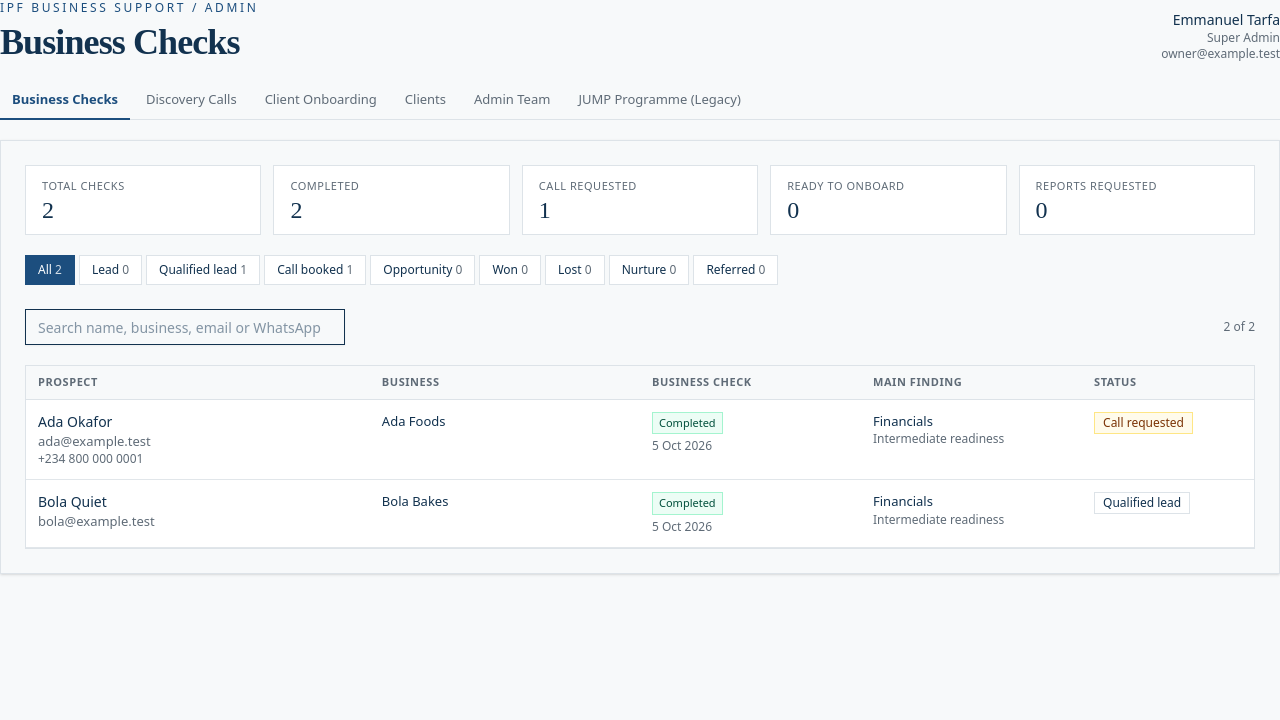
Test case: Business Check record drawer › opens from anywhere on the row, with the right prospect
Click the text "Bola Quiet" at (640, 513), box [26, 480, 1254, 547]
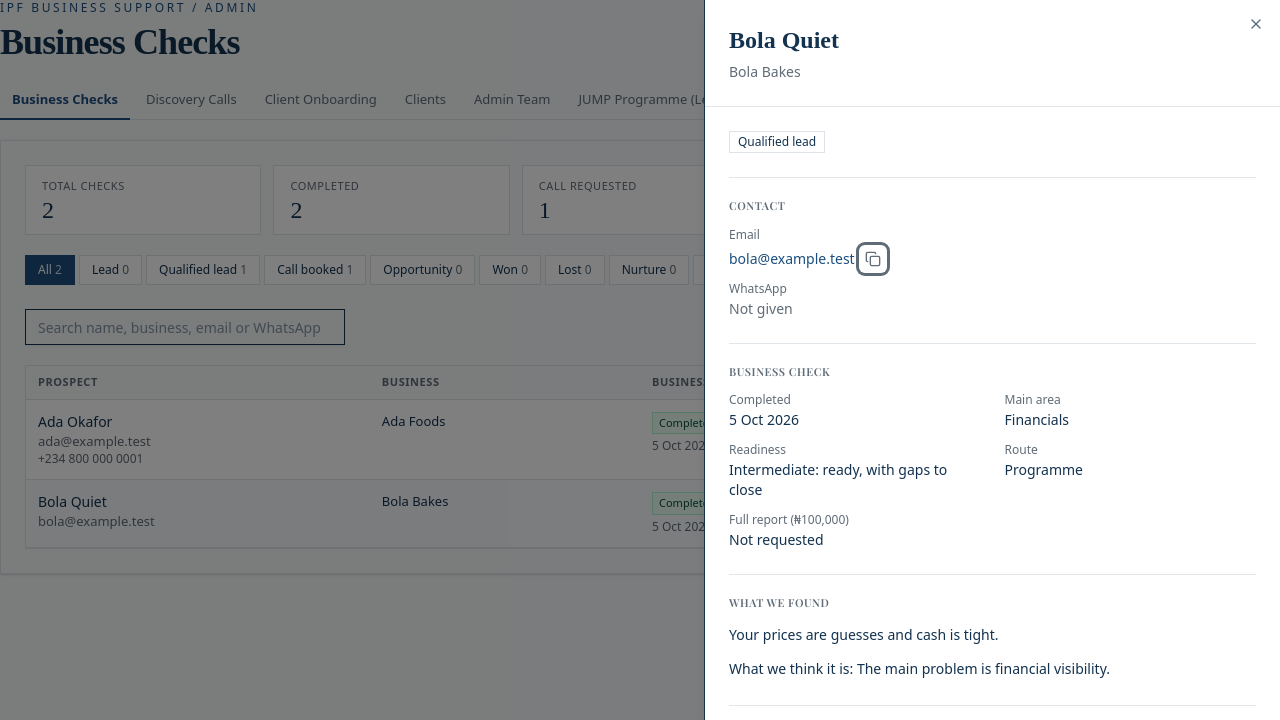
Expected: the heading "Bola Quiet" is shown, [729, 27, 839, 53]
Expected: the text "Bola Bakes" is shown, [729, 62, 801, 81]
Expected: the link "bola@example.test" is shown, [729, 248, 855, 268]
